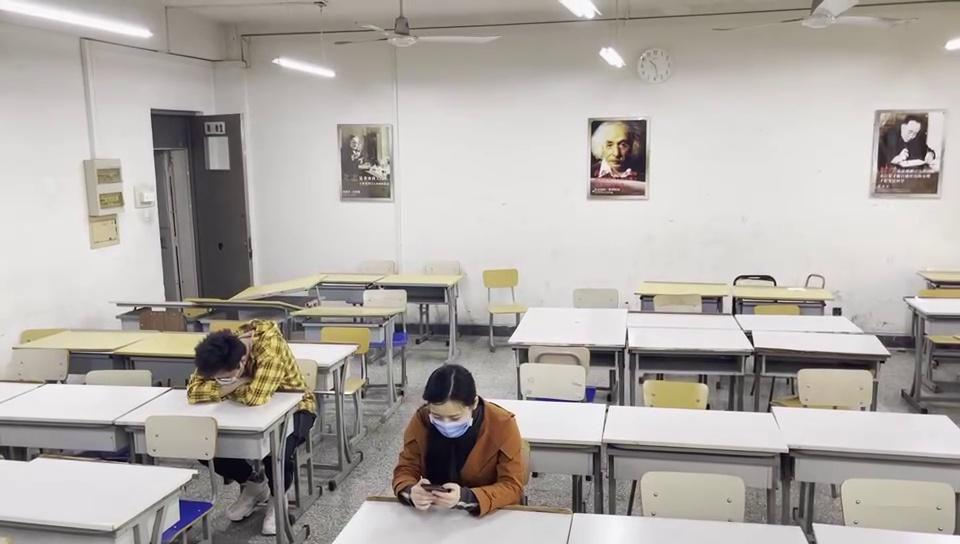phone: (394, 365, 521, 513)
sleep: (188, 320, 295, 405)
